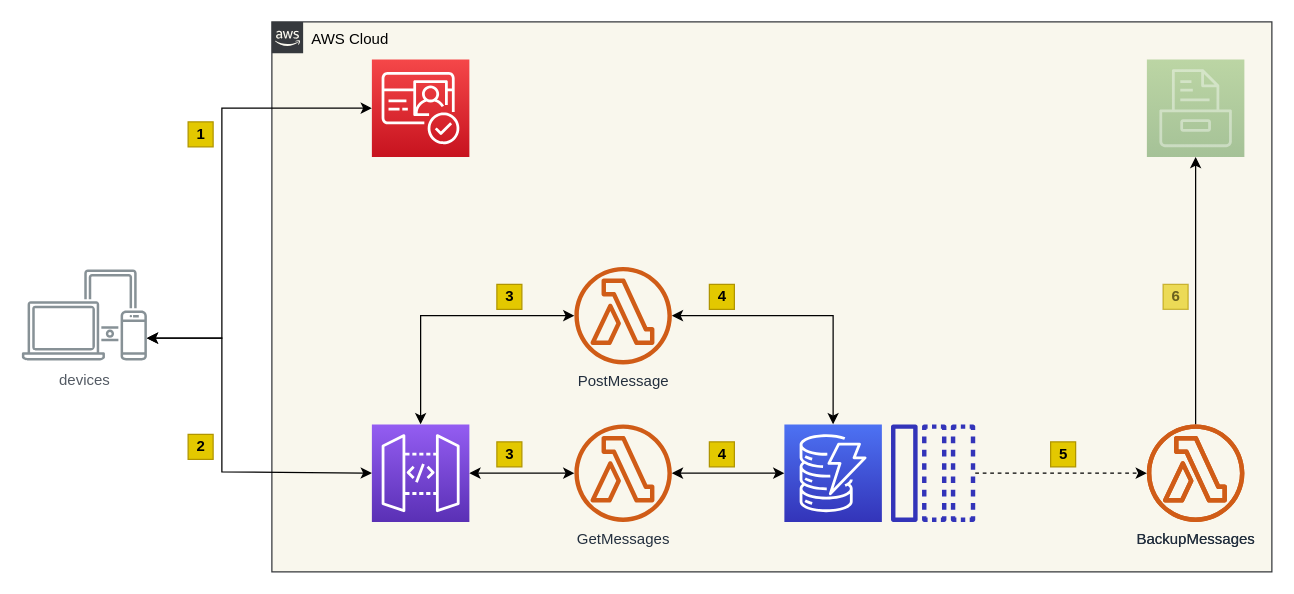
The diagram is 1294 pixels wide and 594 high, and some of its shapes have lost their labels. The centre of each missing label's shape, as x and y in pixels:
API Gateway: (420,472)
Cognito: (420,107)
DynamoDB: (832,472)
Streams: (932,472)
